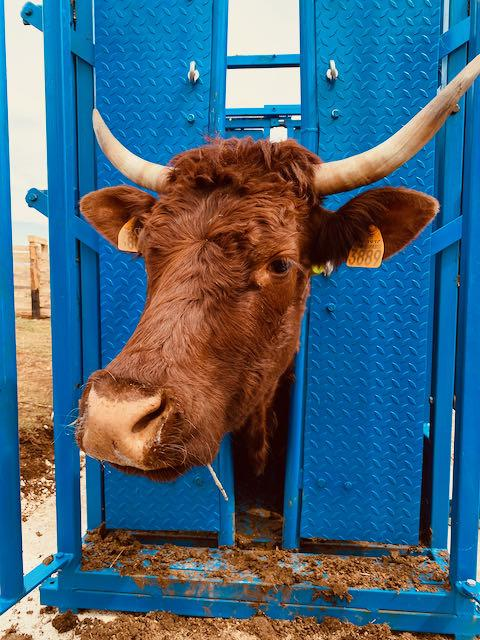muzzles: (64, 368, 207, 488)
